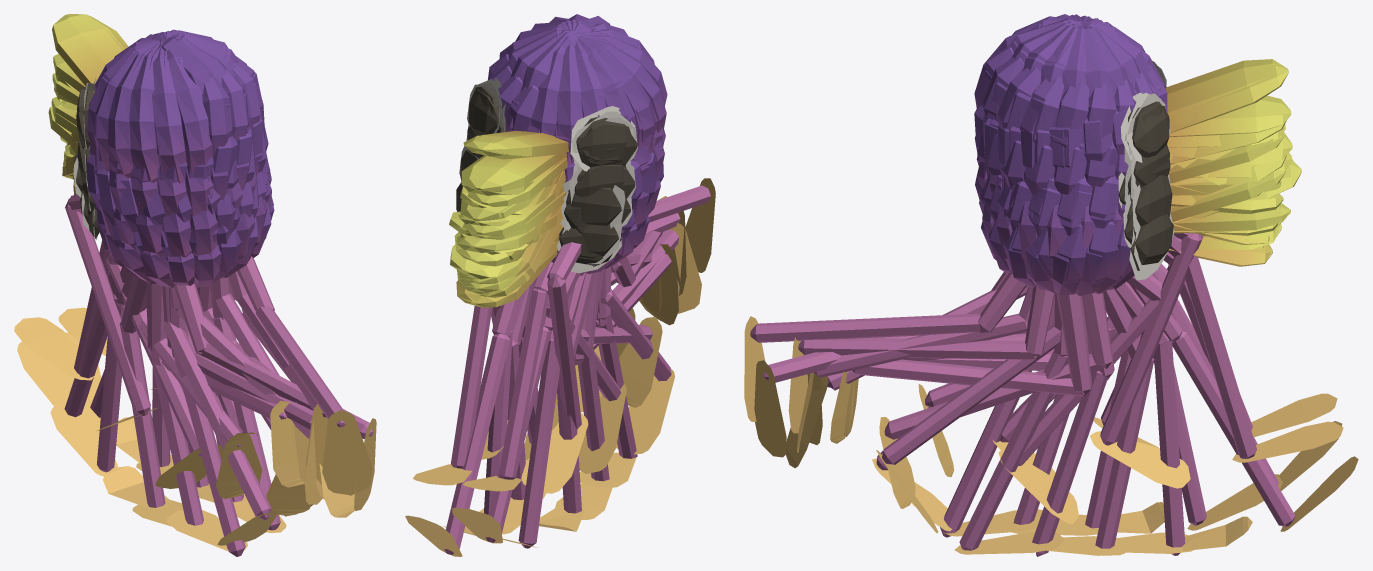
The model's file is Purplebird.fbx.
3 views of the same model, side by side, from view 1: azimuth 30°, elevation 25°; view 2: azimuth 150°, elevation 25°; view 3: azimuth 270°, elevation 25° (orthographic). The views are drawn at different scales.
Visible parts, largest first — view 1: Bird; view 2: Bird; view 3: Bird.
Boxes of the visible parts, bbox=[...] form: Bird: bbox=[14, 14, 376, 556]; Bird: bbox=[405, 14, 715, 556]; Bird: bbox=[744, 14, 1358, 556].
Size of the model in its own units: 1.44 by 3.91 by 4.22.
